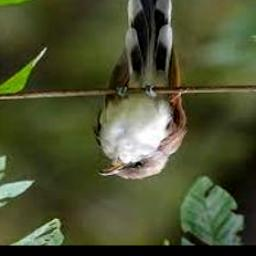Cuckoo: (92, 0, 186, 180)
